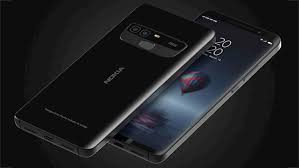nokia: (15, 1, 215, 158)
